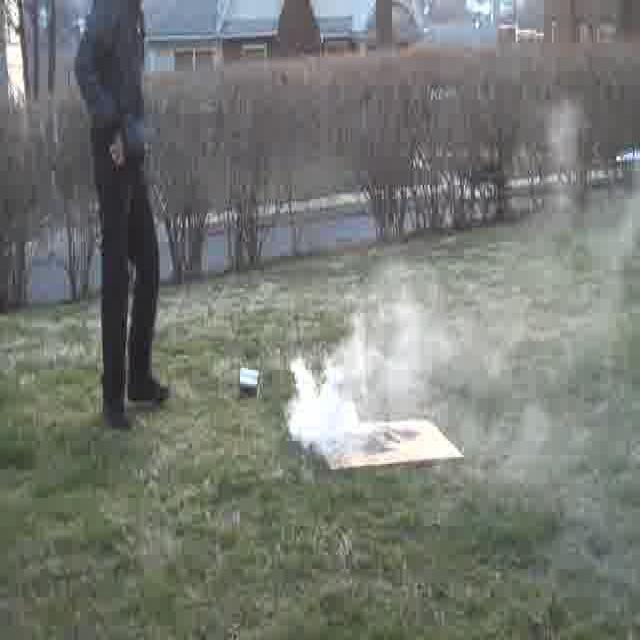smoke: (290, 331, 426, 453)
